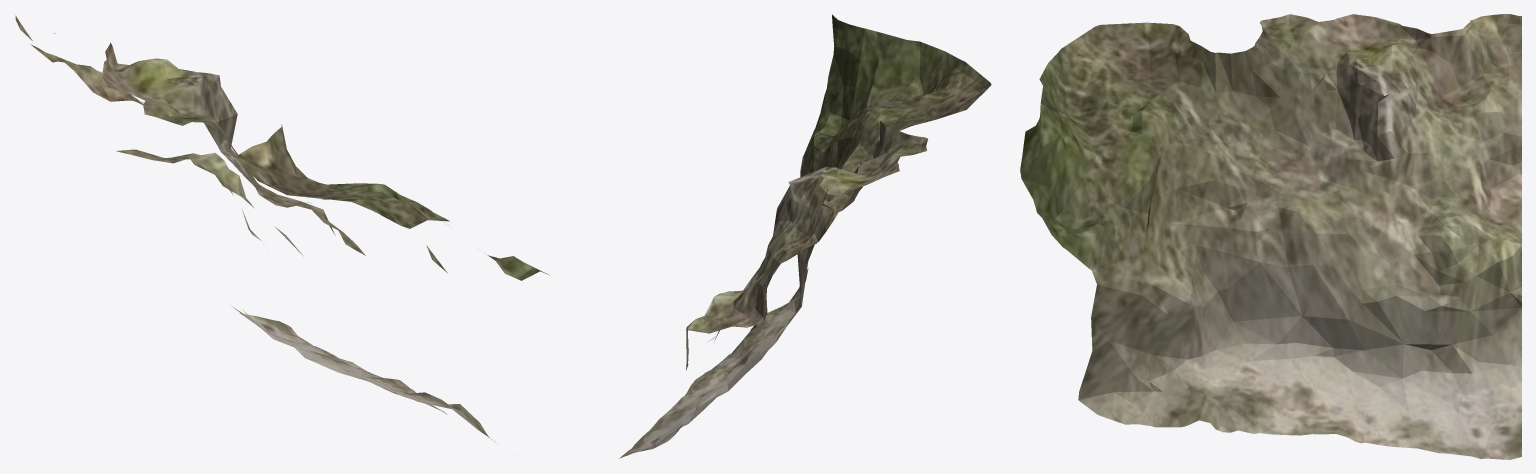
3 views of the same model, side by side, from view 1: azimuth 30°, elevation 25°; view 2: azimuth 150°, elevation 25°; view 3: azimuth 270°, elevation 25° (orthographic). The views are drawn at different scales.
Bounding box in the file's own units: 1.6 × 2.08 × 2.88.
Materials: 2 (2 with a texture image).
